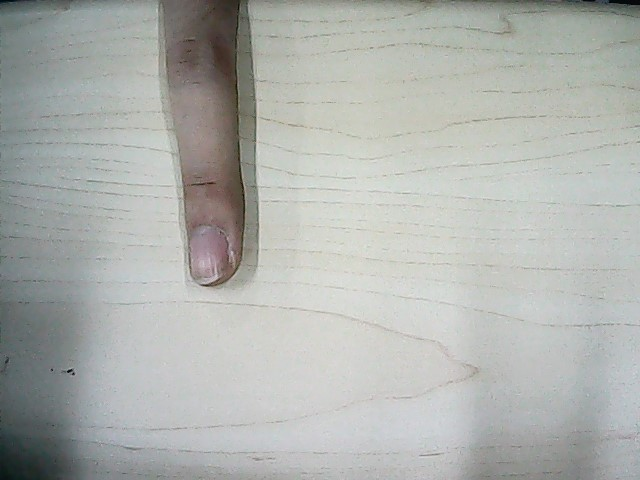nail: (188, 231, 228, 285)
